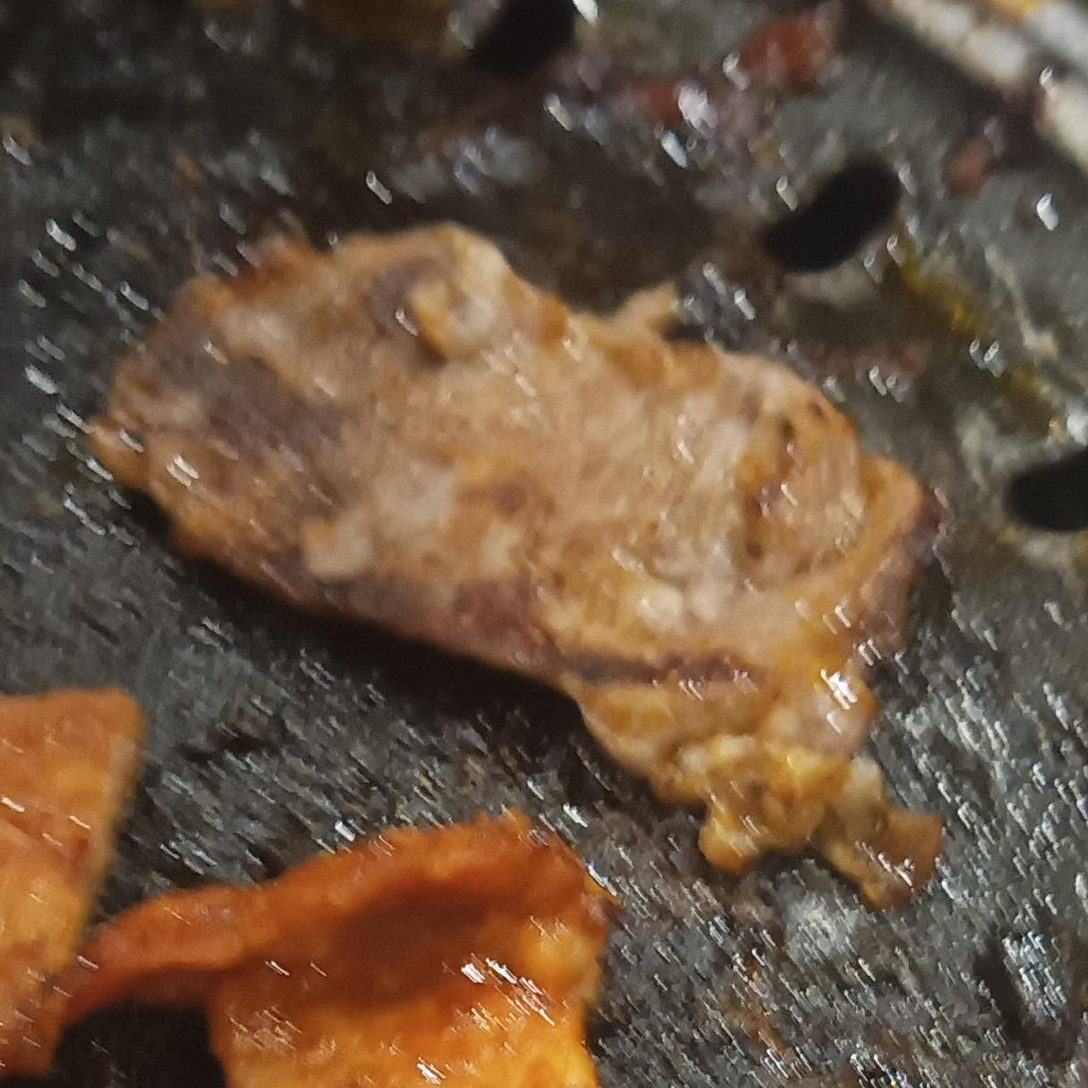Overcooked: (86, 225, 950, 912)
Well-Cooked: (63, 816, 621, 1087), (0, 688, 147, 1080)
